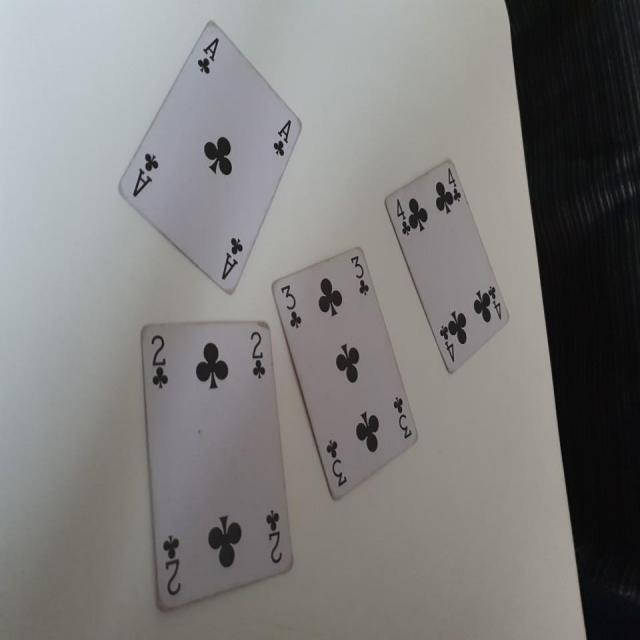2 Trefoils: (138, 316, 295, 610)
3 Trefoils: (271, 247, 420, 500)
4 Trefoils: (384, 158, 512, 372)
A Trefoils: (117, 18, 304, 300)
